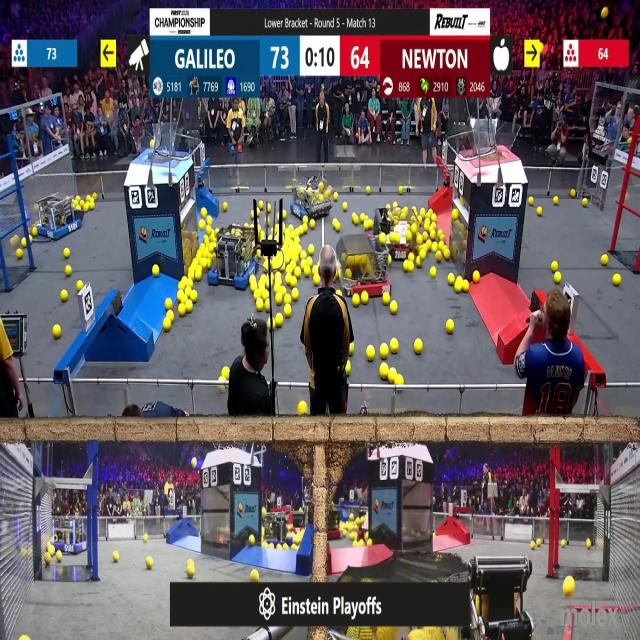ball_airborne: (147, 140, 155, 150)
ball_ground: (563, 578, 574, 598), (380, 345, 390, 359), (365, 347, 374, 361), (389, 340, 398, 354), (297, 403, 306, 417), (415, 340, 423, 355), (187, 562, 194, 578), (389, 302, 397, 316), (274, 314, 282, 328), (381, 363, 388, 378), (250, 569, 258, 582), (55, 324, 62, 338), (291, 288, 298, 302), (250, 277, 257, 291), (388, 368, 395, 382), (178, 305, 186, 317), (394, 374, 402, 386), (447, 320, 454, 333), (345, 361, 352, 374), (284, 306, 291, 319), (554, 273, 562, 284), (614, 275, 622, 286), (146, 557, 153, 569), (472, 272, 479, 284), (361, 292, 368, 304), (383, 292, 390, 304), (165, 319, 172, 331), (402, 262, 410, 272), (601, 254, 608, 265), (194, 270, 201, 281), (256, 301, 263, 312), (353, 294, 360, 305), (276, 293, 283, 304), (435, 251, 442, 262), (290, 276, 297, 287), (444, 249, 451, 260), (166, 300, 173, 311), (294, 268, 301, 279), (187, 269, 194, 280), (66, 266, 72, 278), (152, 266, 158, 278), (449, 274, 455, 286), (62, 290, 68, 302), (343, 574, 352, 582), (348, 344, 355, 354), (284, 294, 291, 304), (455, 283, 462, 293), (423, 220, 430, 230), (186, 302, 192, 313), (222, 366, 228, 377), (430, 268, 436, 279), (462, 281, 468, 292), (190, 290, 196, 301), (265, 301, 271, 312), (249, 535, 255, 546), (380, 234, 386, 245), (44, 554, 50, 565), (168, 311, 175, 320), (419, 250, 426, 259), (255, 289, 262, 298), (552, 262, 558, 272), (314, 276, 320, 286), (57, 552, 63, 562), (309, 245, 315, 255), (76, 280, 82, 290), (16, 249, 22, 259), (353, 214, 359, 224), (452, 210, 458, 220), (416, 257, 422, 267), (305, 268, 311, 278), (336, 220, 342, 230), (426, 240, 432, 250), (200, 219, 206, 229), (178, 290, 184, 300), (22, 238, 28, 248), (265, 278, 271, 288), (302, 224, 309, 232), (362, 576, 370, 583), (113, 552, 118, 563), (536, 207, 542, 216), (528, 198, 534, 207), (570, 188, 576, 197), (431, 242, 437, 251), (264, 289, 270, 298), (310, 219, 316, 228), (363, 220, 369, 229), (308, 256, 314, 265), (32, 229, 38, 238), (417, 236, 423, 245), (429, 232, 435, 241), (184, 288, 190, 297), (184, 276, 190, 285), (331, 191, 337, 200), (297, 225, 303, 234), (65, 248, 70, 258), (268, 319, 273, 329), (202, 208, 207, 218), (587, 538, 592, 548), (554, 198, 560, 206), (583, 200, 589, 208), (343, 203, 349, 211), (530, 540, 536, 548), (257, 202, 263, 210), (366, 538, 372, 546), (365, 186, 371, 194), (274, 284, 280, 292), (420, 208, 426, 216), (219, 386, 225, 394), (440, 234, 446, 242), (293, 237, 299, 245), (222, 203, 227, 212), (281, 286, 286, 295), (207, 216, 212, 225), (423, 232, 428, 241), (313, 267, 318, 276), (304, 216, 310, 223), (410, 253, 416, 260), (93, 192, 99, 199), (143, 534, 148, 542), (178, 282, 183, 290), (250, 210, 255, 218), (440, 242, 445, 250), (358, 538, 363, 546), (398, 186, 403, 194), (561, 539, 566, 547), (283, 211, 287, 220), (360, 213, 364, 222), (431, 215, 436, 222), (284, 542, 289, 549), (269, 217, 274, 224), (536, 538, 541, 545), (22, 636, 30, 640), (91, 202, 95, 210), (388, 256, 392, 264), (269, 205, 273, 213), (276, 222, 280, 230), (338, 289, 342, 296), (256, 209, 260, 216), (289, 224, 293, 231), (86, 195, 90, 202), (292, 543, 296, 549)
goal: (466, 123, 521, 159), (128, 128, 188, 161)
robot_blue: (212, 224, 260, 288), (36, 194, 84, 240), (291, 173, 333, 221), (53, 517, 88, 555), (261, 511, 289, 547)
robot_red: (336, 235, 391, 296), (372, 202, 419, 260)
